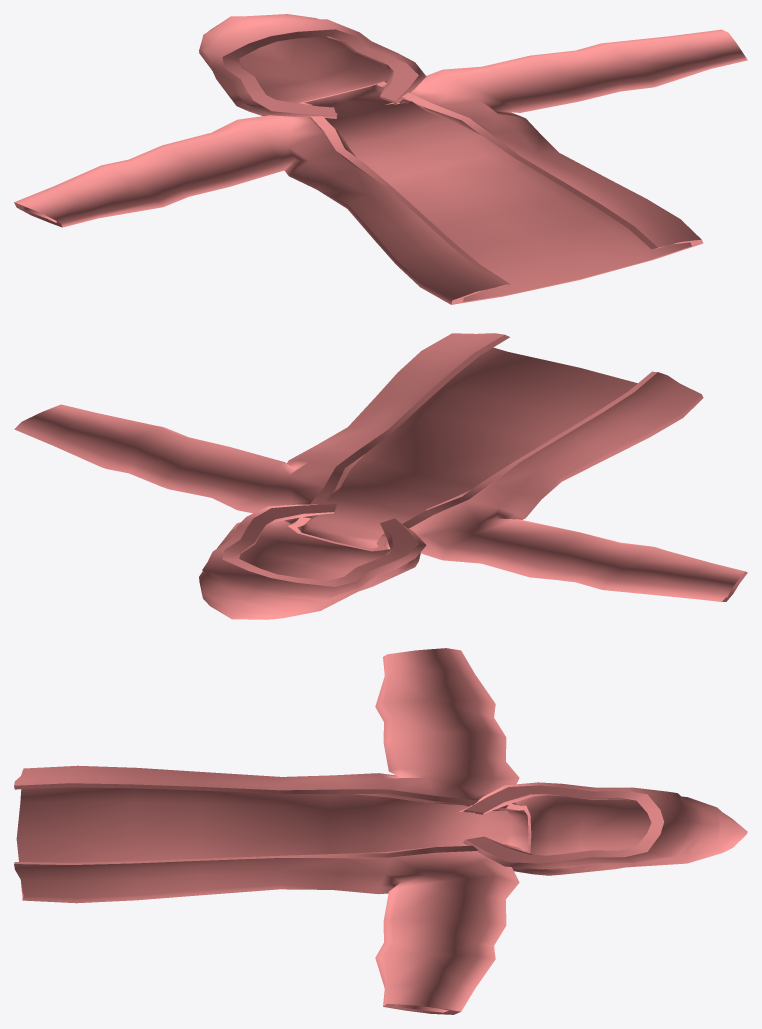
Rendered from W_Fur_Jacket.FBX.
3 views of the same model, one above another, from view 1: azimuth 30°, elevation 25°; view 2: azimuth 150°, elevation 25°; view 3: azimuth 270°, elevation 25° (orthographic). The views are drawn at different scales.
Visible parts, largest first — view 1: Bob_LongCoat001; view 2: Bob_LongCoat001; view 3: Bob_LongCoat001.
Part boxes in pixels (x1=…): Bob_LongCoat001: x1=14, y1=14, x2=747, y2=304; Bob_LongCoat001: x1=14, y1=333, x2=747, y2=619; Bob_LongCoat001: x1=14, y1=648, x2=747, y2=1014.
Size of the model in its own units: 84.68 by 1.97 by 72.47.
